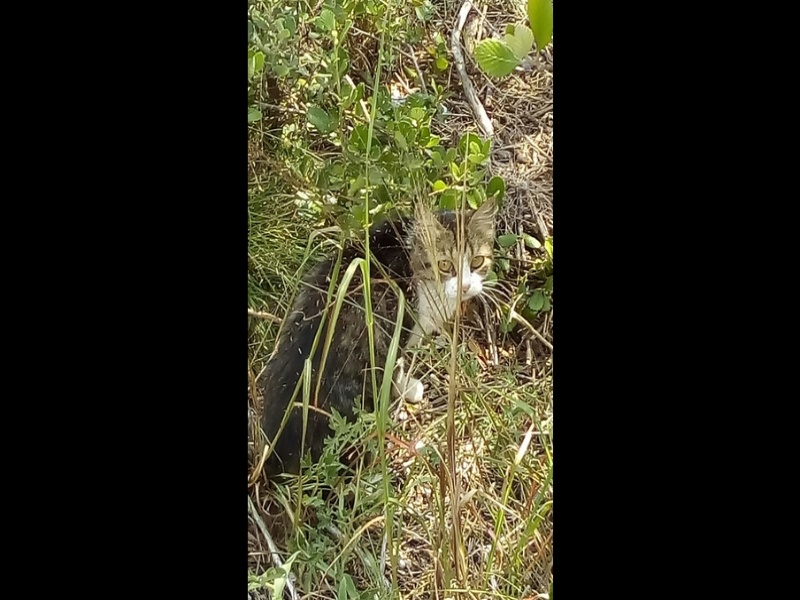cat: (257, 191, 503, 483)
